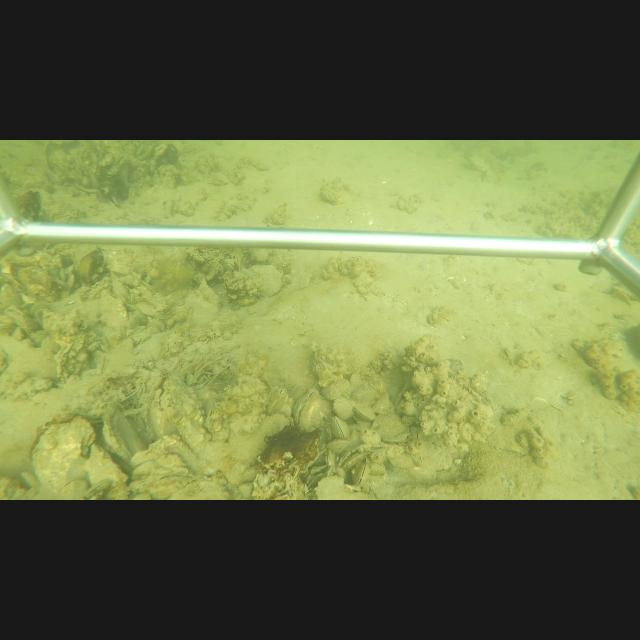Oyster-Closed: (30, 416, 96, 494), (131, 470, 194, 498), (89, 445, 129, 485), (294, 389, 331, 432), (53, 332, 86, 379), (98, 287, 130, 329), (102, 418, 133, 460), (250, 264, 286, 297), (175, 416, 207, 453), (83, 478, 111, 500), (331, 415, 351, 439), (356, 460, 370, 487), (354, 406, 376, 421)
Oyster-Open: (338, 444, 386, 469)
